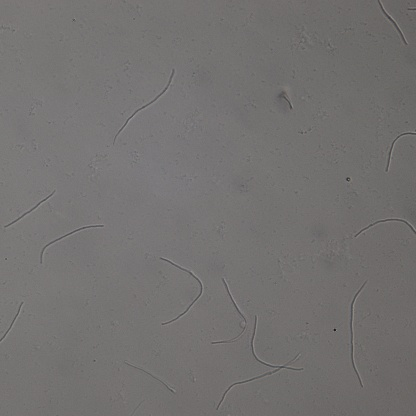Sensitive: (217, 315, 304, 410), (114, 69, 175, 142), (157, 256, 204, 326), (342, 279, 367, 389), (39, 223, 104, 265), (211, 275, 248, 347), (6, 190, 56, 227), (124, 362, 173, 393), (353, 215, 416, 237), (377, 1, 407, 44), (386, 130, 416, 170), (1, 302, 22, 344)
